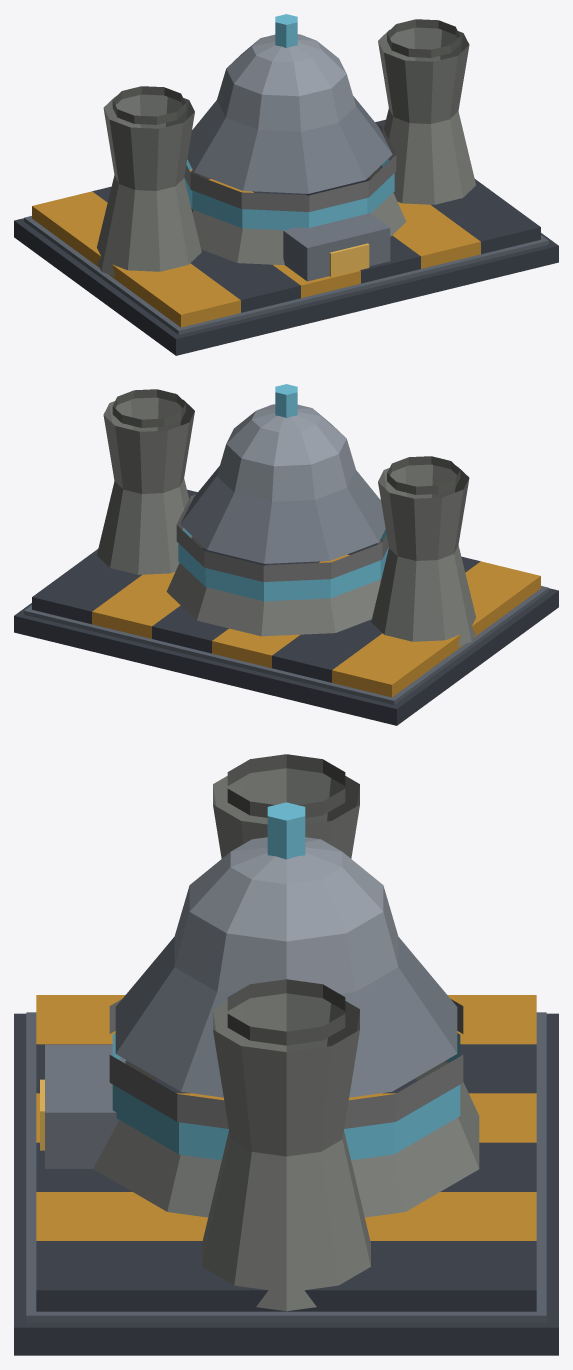
File: fusion-reactor.obj
3 renders of one model, top to bottom at view 1: azimuth 30°, elevation 25°; view 2: azimuth 150°, elevation 25°; view 3: azimuth 270°, elevation 25°, orthographic. The views are drawn at different scales.
Visible parts, largest first — view 1: fusion-reactor; view 2: fusion-reactor; view 3: fusion-reactor.
Boxes of the visible parts, left/top/right/bottom form: fusion-reactor: left=14, top=14, right=558, bottom=355; fusion-reactor: left=14, top=384, right=558, bottom=725; fusion-reactor: left=14, top=754, right=558, bottom=1355.
Bounding box in the file's own units: 12 × 6.9 × 8.8.
